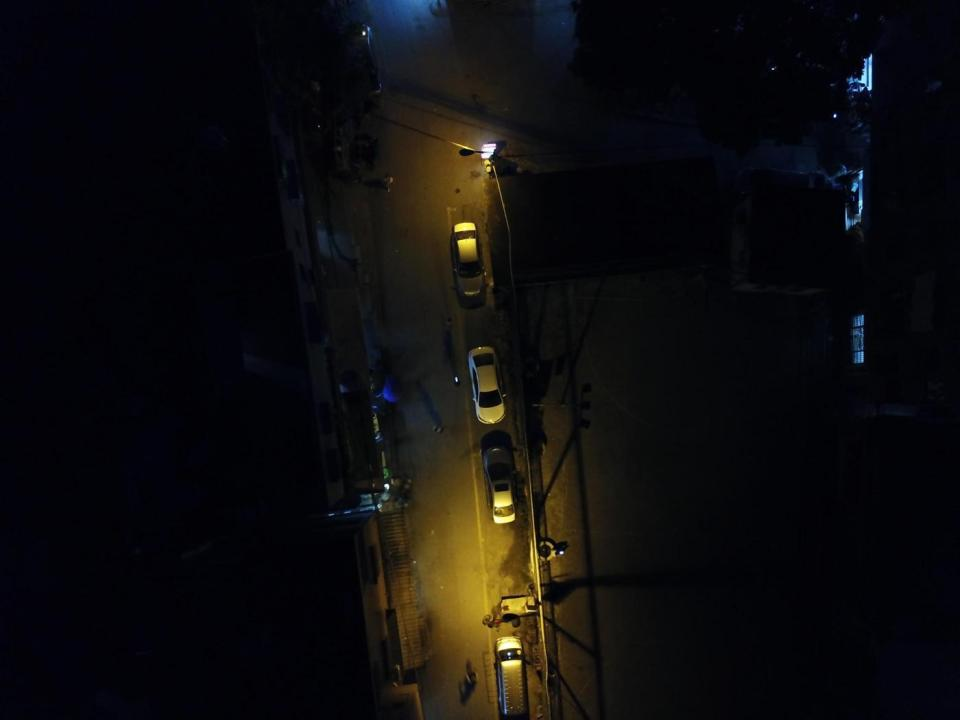car: (468, 346, 506, 424), (346, 24, 383, 100), (450, 222, 486, 298), (482, 446, 515, 524)
van: (494, 636, 529, 716)
